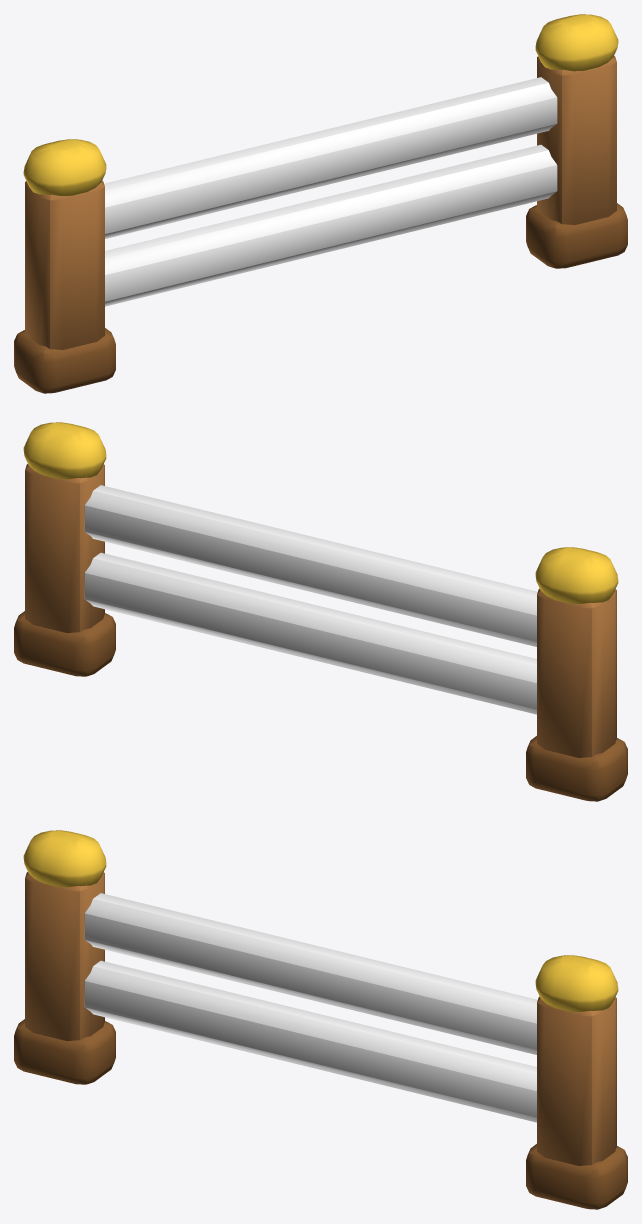
File: Plot_Fence.glb
The picture shows the model from 3 angles, top to bottom: view 1: azimuth 30°, elevation 25°; view 2: azimuth 150°, elevation 25°; view 3: azimuth 330°, elevation 25°; orthographic projection.
Visible parts, largest first — view 1: Rail_FFFFFF, Post_B5793F, Foot_8A5A2B, Cap_FFD23F; view 2: Rail_FFFFFF, Post_B5793F, Foot_8A5A2B, Cap_FFD23F; view 3: Rail_FFFFFF, Post_B5793F, Foot_8A5A2B, Cap_FFD23F.
Boxes of the visible parts, box(x1,y1,x2,y2) form: Rail_FFFFFF: box(104, 77, 557, 306); Post_B5793F: box(25, 56, 616, 349); Foot_8A5A2B: box(14, 203, 627, 393); Cap_FFD23F: box(23, 14, 618, 195); Rail_FFFFFF: box(84, 485, 537, 714); Post_B5793F: box(25, 464, 616, 757); Foot_8A5A2B: box(14, 611, 627, 801); Cap_FFD23F: box(23, 422, 618, 603); Rail_FFFFFF: box(84, 893, 537, 1122); Post_B5793F: box(25, 872, 616, 1165); Foot_8A5A2B: box(14, 1019, 627, 1209); Cap_FFD23F: box(23, 830, 618, 1011).
Bounding box in the file's own units: 8 × 3 × 0.8.
